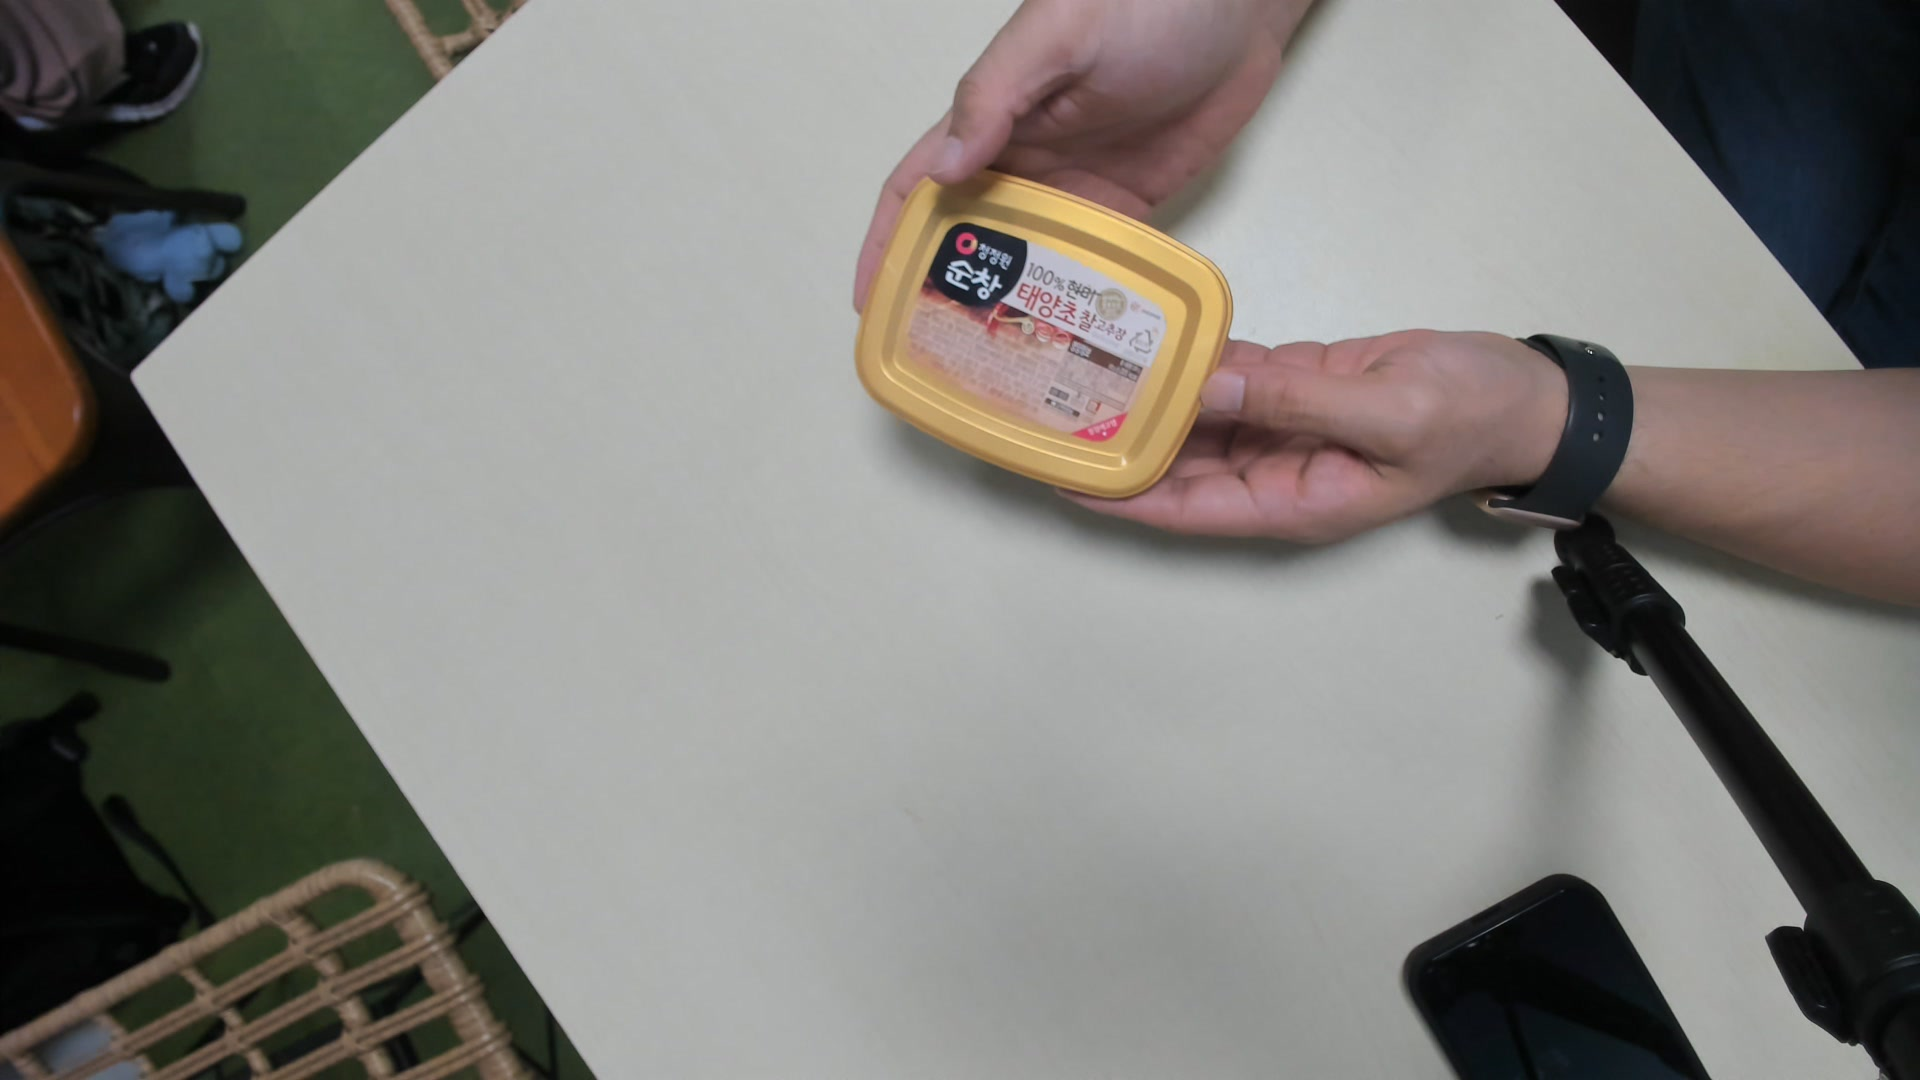OtherSauceDressing_200-299g_NonHalal_NonHealthy: (853, 167, 1230, 495)
